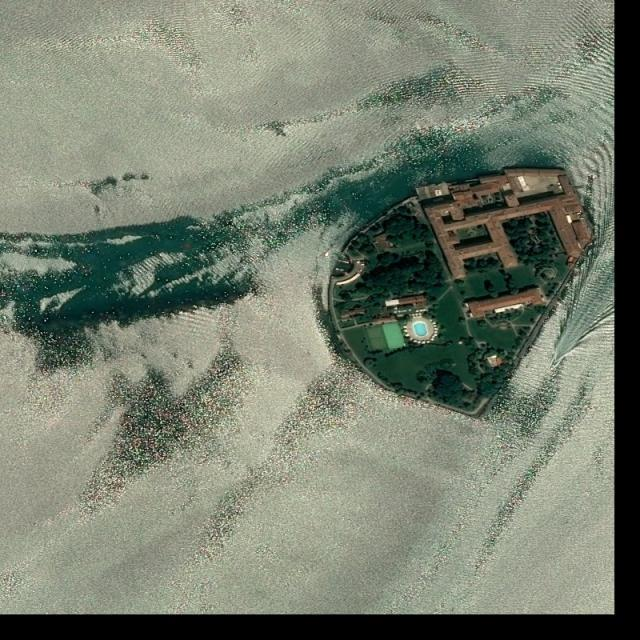ship: (323, 250, 333, 259), (335, 269, 346, 273), (550, 364, 555, 372)
